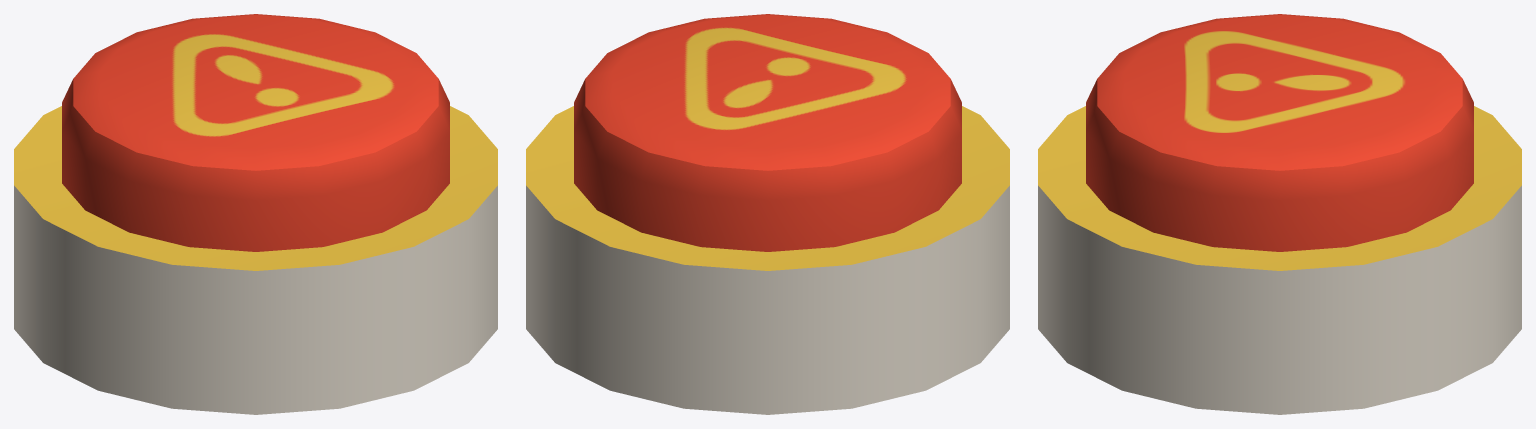
Rendered from SR_Button_1.fbx.
3 views of the same model, side by side, from view 1: azimuth 30°, elevation 25°; view 2: azimuth 150°, elevation 25°; view 3: azimuth 270°, elevation 25° (orthographic).
Parts seen in each view (by area): view 1: SR_Button_1; view 2: SR_Button_1; view 3: SR_Button_1.
Part boxes in pixels (left/top/right/bottom): SR_Button_1: left=14, top=14, right=497, bottom=414; SR_Button_1: left=526, top=14, right=1009, bottom=414; SR_Button_1: left=1038, top=14, right=1521, bottom=414.
Size of the model in its own units: 113 by 57.88 by 111.
